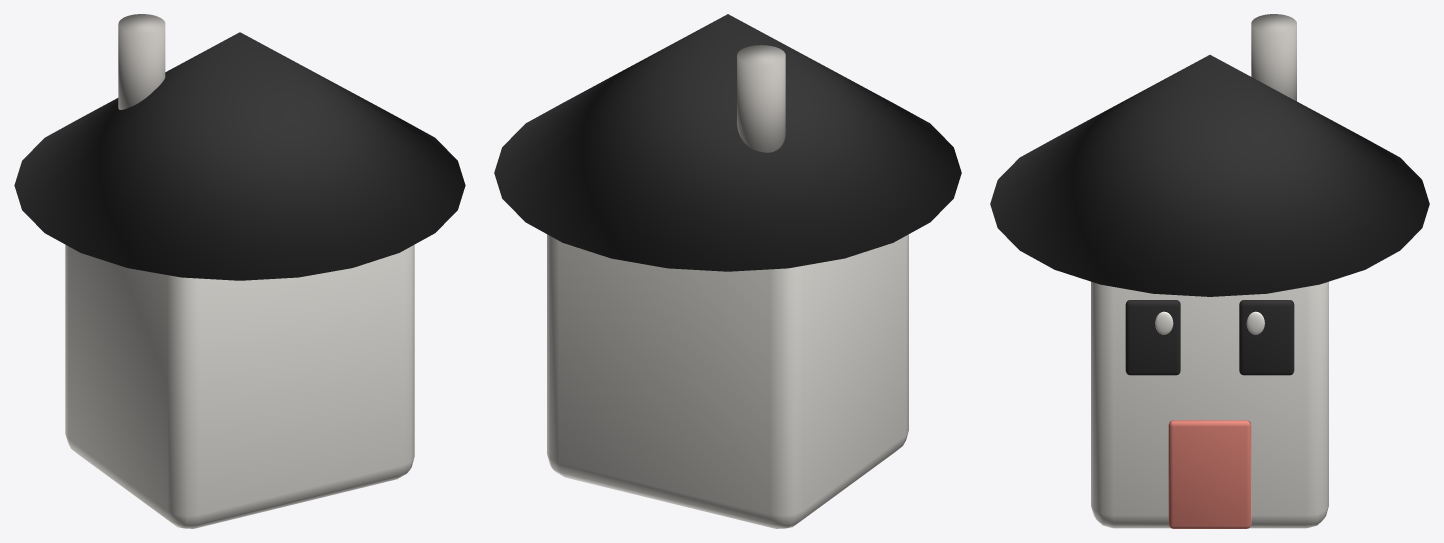
3 renders of one model, left to right at view 1: azimuth 30°, elevation 25°; view 2: azimuth 150°, elevation 25°; view 3: azimuth 270°, elevation 25°, orthographic. The views are drawn at different scales.
Visible parts, largest first — view 1: hWall, hRoof, hChim; view 2: hWall, hRoof, hChim; view 3: hRoof, hWall, hDoor, hWin-1, hWin1, hChim.
Boxes of the visible parts, x1,y1,x2,y2 form: hWall: (65, 244, 414, 528); hRoof: (14, 32, 465, 280); hChim: (118, 14, 165, 109); hWall: (547, 234, 908, 528); hRoof: (494, 14, 961, 271); hChim: (737, 45, 785, 152); hRoof: (990, 55, 1429, 296); hWall: (1091, 281, 1328, 528); hDoor: (1168, 420, 1251, 528); hWin-1: (1125, 300, 1180, 375); hWin1: (1239, 300, 1294, 375); hChim: (1251, 14, 1296, 101).
Bounding box in the file's own units: 4.8 × 5.38 × 4.8.
